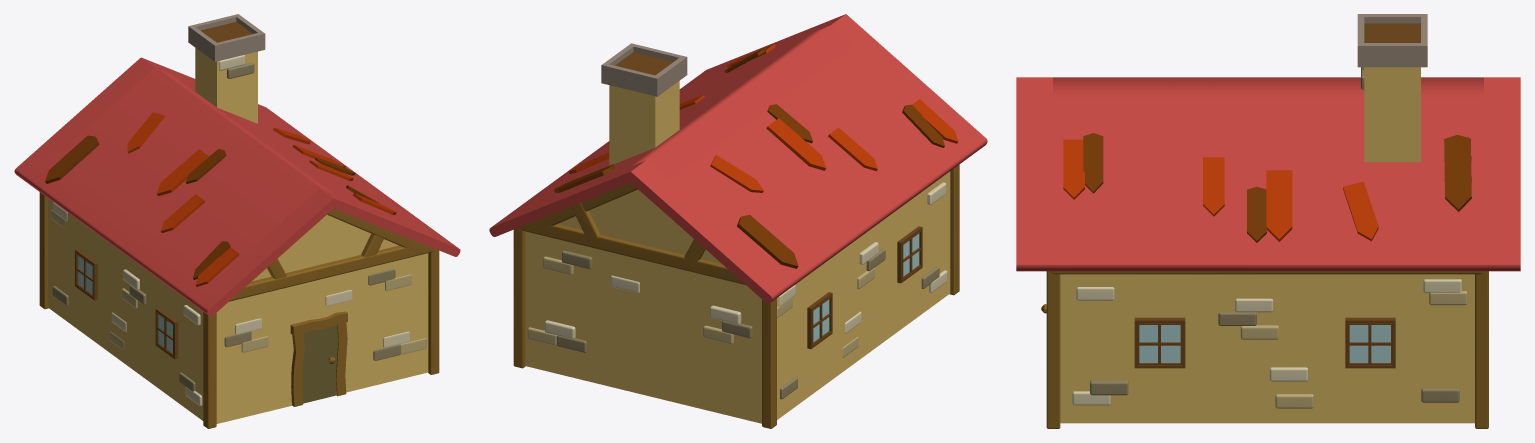
File: HouseExterior.fbx
3 renders of one model, left to right at view 1: azimuth 30°, elevation 25°; view 2: azimuth 150°, elevation 25°; view 3: azimuth 270°, elevation 25°, orthographic. The views are drawn at different scales.
Parts seen in each view (by area): view 1: OutsideHouse, HouseBeam4, DoorModel, DoorFrame, HouseBeam, HouseBeam3, HouseBeam1, HouseBeam8, Roof_Tile4, Window1, Window2, Roof_Tile6 (+5 smaller); view 2: OutsideHouse, HouseBeam14, HouseBeam1, HouseBeam2, HouseBeam, Roof_Tile4, Window2, Window1, Roof_Tile6, HouseBeam12, Roof_Tile2, Roof_Tile5 (+4 smaller); view 3: OutsideHouse, Window4, Window3, HouseBeam3, HouseBeam2, Roof_Tile11, Roof_Tile13, HouseBeam10, Roof_Tile12, Roof_Tile9, Roof_Tile7, Roof_Tile8 (+12 smaller).
Boxes of the visible parts, x1=… form: OutsideHouse: x1=14, y1=14, x2=460, y2=423; HouseBeam4: x1=229, y1=244, x2=432, y2=301; DoorModel: x1=302, y1=325, x2=338, y2=403; DoorFrame: x1=290, y1=311, x2=347, y2=406; HouseBeam: x1=203, y1=312, x2=216, y2=428; HouseBeam3: x1=428, y1=248, x2=439, y2=374; HouseBeam1: x1=39, y1=192, x2=48, y2=309; HouseBeam8: x1=327, y1=208, x2=423, y2=251; Roof_Tile4: x1=45, y1=135, x2=99, y2=183; Window1: x1=155, y1=308, x2=178, y2=359; Window2: x1=75, y1=249, x2=97, y2=300; Roof_Tile6: x1=157, y1=149, x2=209, y2=195; OutsideHouse: x1=489, y1=14, x2=987, y2=423; HouseBeam14: x1=521, y1=222, x2=745, y2=285; HouseBeam1: x1=762, y1=298, x2=776, y2=428; HouseBeam2: x1=513, y1=227, x2=525, y2=368; HouseBeam: x1=949, y1=164, x2=959, y2=295; Roof_Tile4: x1=737, y1=215, x2=798, y2=268; Window2: x1=807, y1=292, x2=832, y2=349; Window1: x1=897, y1=226, x2=922, y2=283; Roof_Tile6: x1=766, y1=118, x2=826, y2=170; HouseBeam12: x1=531, y1=183, x2=637, y2=230; Roof_Tile2: x1=828, y1=127, x2=877, y2=171; Roof_Tile5: x1=710, y1=155, x2=763, y2=192; OutsideHouse: x1=1016, y1=14, x2=1520, y2=423; Window4: x1=1134, y1=317, x2=1185, y2=368; Window3: x1=1345, y1=317, x2=1395, y2=368; HouseBeam3: x1=1046, y1=271, x2=1060, y2=428; HouseBeam2: x1=1475, y1=271, x2=1488, y2=428; Roof_Tile11: x1=1444, y1=134, x2=1471, y2=211; Roof_Tile13: x1=1266, y1=170, x2=1292, y2=241; HouseBeam10: x1=1051, y1=271, x2=1482, y2=274; Roof_Tile12: x1=1343, y1=181, x2=1378, y2=241; Roof_Tile9: x1=1203, y1=157, x2=1224, y2=216; Roof_Tile7: x1=1063, y1=139, x2=1084, y2=199; Roof_Tile8: x1=1083, y1=133, x2=1103, y2=193.
Bounding box in the file's own units: 886 × 891 × 1169.
Materials: 1 (1 with a texture image).
